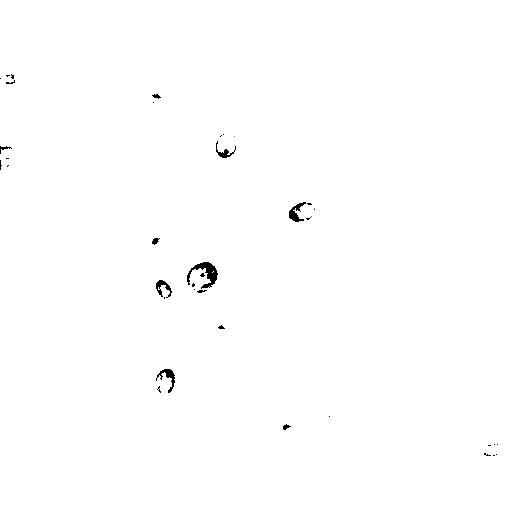micro-algae: (265, 412, 309, 448), (185, 259, 220, 295), (141, 223, 172, 256), (213, 129, 239, 160), (266, 208, 293, 237), (287, 200, 317, 225), (152, 368, 177, 398), (1, 145, 21, 168), (155, 278, 173, 302), (482, 441, 505, 457), (185, 150, 197, 171), (2, 71, 17, 86)
